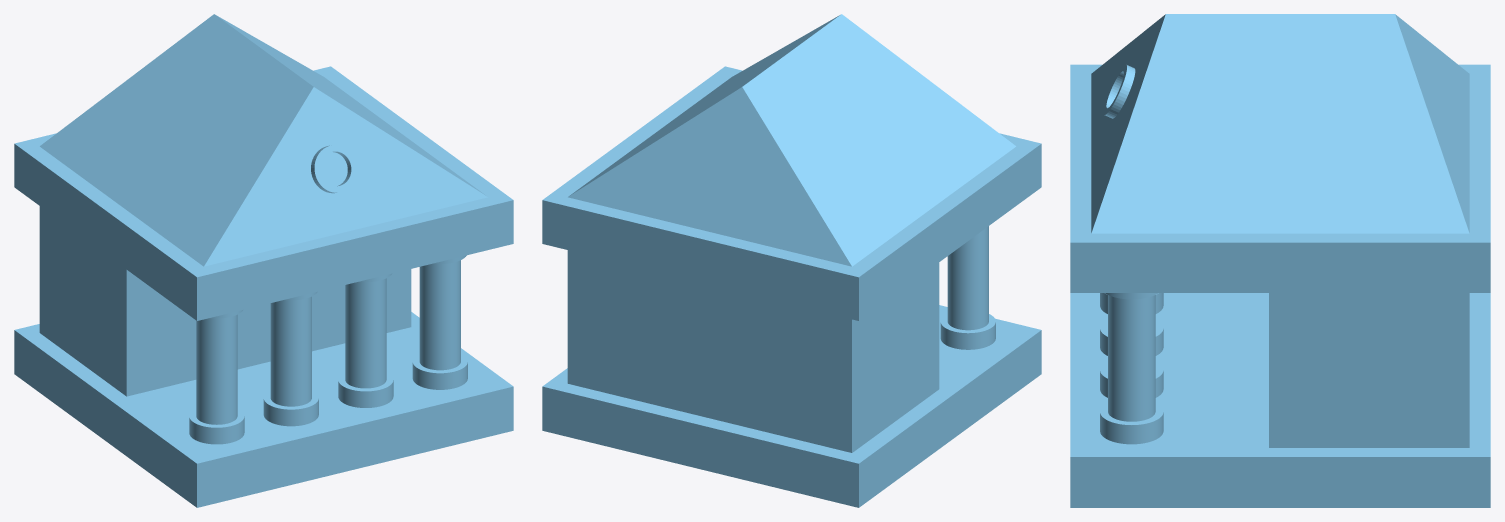
File: bank.glb
The picture shows the model from 3 angles, left to right: view 1: azimuth 30°, elevation 25°; view 2: azimuth 150°, elevation 25°; view 3: azimuth 270°, elevation 25°; orthographic projection. The views are drawn at different scales.
Visible parts, largest first — view 1: Roof, Base, Entablature, Walls, Column_1_Shaft, Column_3_Shaft, Column_2_Shaft, Column_4_Shaft, Column_1_Plinth, Column_2_Plinth, Column_3_Plinth, Column_4_Plinth (+1 smaller); view 2: Roof, Walls, Entablature, Base, Column_1_Shaft, Column_1_Plinth; view 3: Roof, Base, Entablature, Walls, Column_4_Shaft, Column_4_Plinth, Emblem, Column_3_Plinth, Column_2_Plinth.
Boxes of the visible parts, x1=… form: Roof: x1=40, y1=14, x2=487, y2=266; Base: x1=14, y1=312, x2=513, y2=507; Entablature: x1=14, y1=66, x2=513, y2=320; Walls: x1=39, y1=206, x2=411, y2=396; Column_1_Shaft: x1=196, y1=314, x2=237, y2=424; Column_3_Shaft: x1=345, y1=278, x2=386, y2=388; Column_2_Shaft: x1=270, y1=296, x2=311, y2=406; Column_4_Shaft: x1=419, y1=260, x2=460, y2=370; Column_1_Plinth: x1=189, y1=408, x2=244, y2=444; Column_2_Plinth: x1=263, y1=390, x2=318, y2=426; Column_3_Plinth: x1=338, y1=372, x2=393, y2=407; Column_4_Plinth: x1=412, y1=354, x2=467, y2=389; Roof: x1=568, y1=14, x2=1015, y2=266; Walls: x1=567, y1=250, x2=939, y2=452; Entablature: x1=542, y1=66, x2=1041, y2=320; Base: x1=542, y1=305, x2=1041, y2=507; Column_1_Shaft: x1=947, y1=226, x2=988, y2=330; Column_1_Plinth: x1=940, y1=314, x2=995, y2=349; Roof: x1=1091, y1=14, x2=1469, y2=233; Base: x1=1070, y1=293, x2=1490, y2=507; Entablature: x1=1070, y1=64, x2=1490, y2=292; Walls: x1=1269, y1=293, x2=1469, y2=447; Column_4_Shaft: x1=1108, y1=295, x2=1155, y2=421; Column_4_Plinth: x1=1100, y1=403, x2=1163, y2=444; Emblem: x1=1103, y1=64, x2=1135, y2=118; Column_3_Plinth: x1=1100, y1=361, x2=1163, y2=397; Column_2_Plinth: x1=1100, y1=319, x2=1163, y2=355.
Size of the model in its own units: 0.941 by 1 by 0.941.
